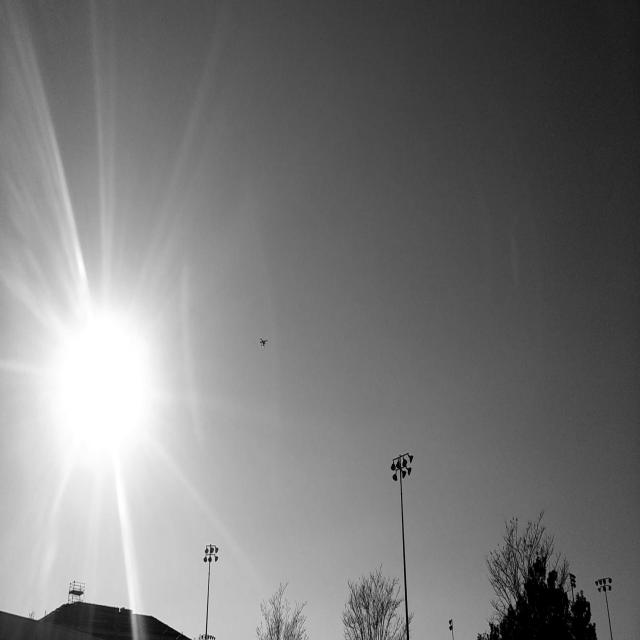drone: (254, 325, 270, 350)
